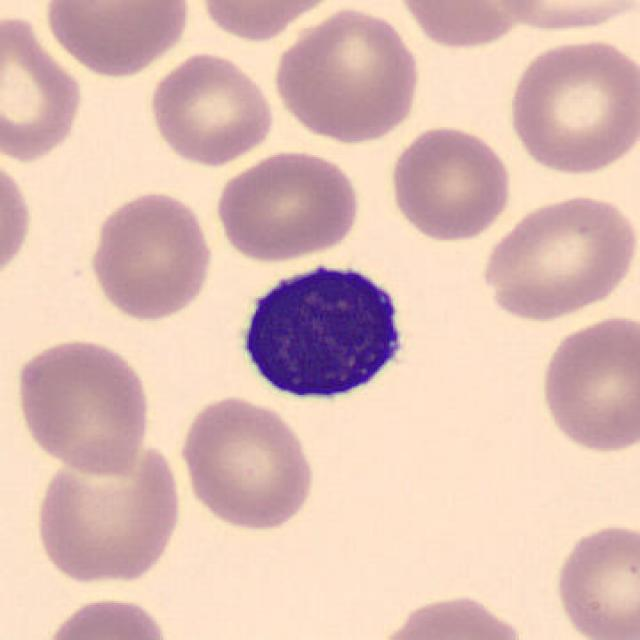Lymphocyte: (226, 250, 421, 411)
RBC: (30, 437, 185, 587), (269, 3, 423, 146), (476, 188, 638, 322), (12, 335, 154, 478), (176, 392, 320, 532), (503, 34, 638, 178), (85, 187, 217, 324), (212, 146, 362, 264), (144, 49, 277, 168), (386, 122, 516, 243), (535, 310, 638, 457), (0, 9, 87, 164), (41, 0, 194, 79), (550, 518, 638, 640), (371, 590, 528, 640), (393, 0, 533, 51), (194, 0, 345, 44), (39, 592, 173, 640), (485, 0, 639, 35), (0, 146, 36, 291)
